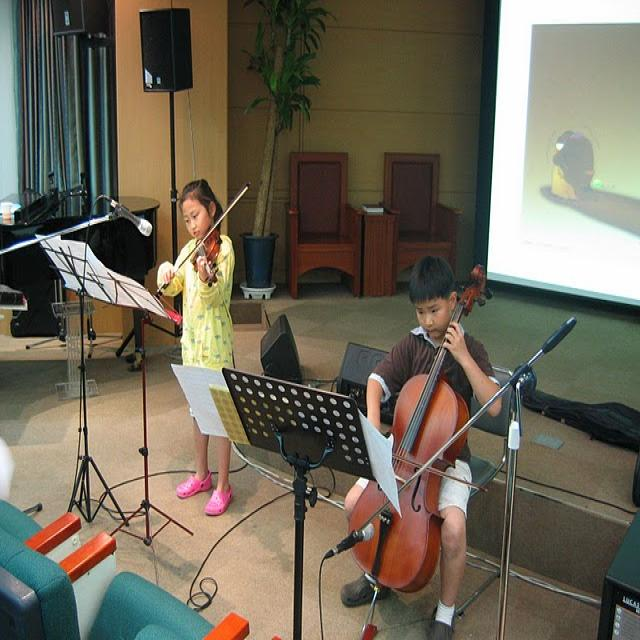cello: (345, 263, 490, 592)
violin: (188, 226, 226, 286)
